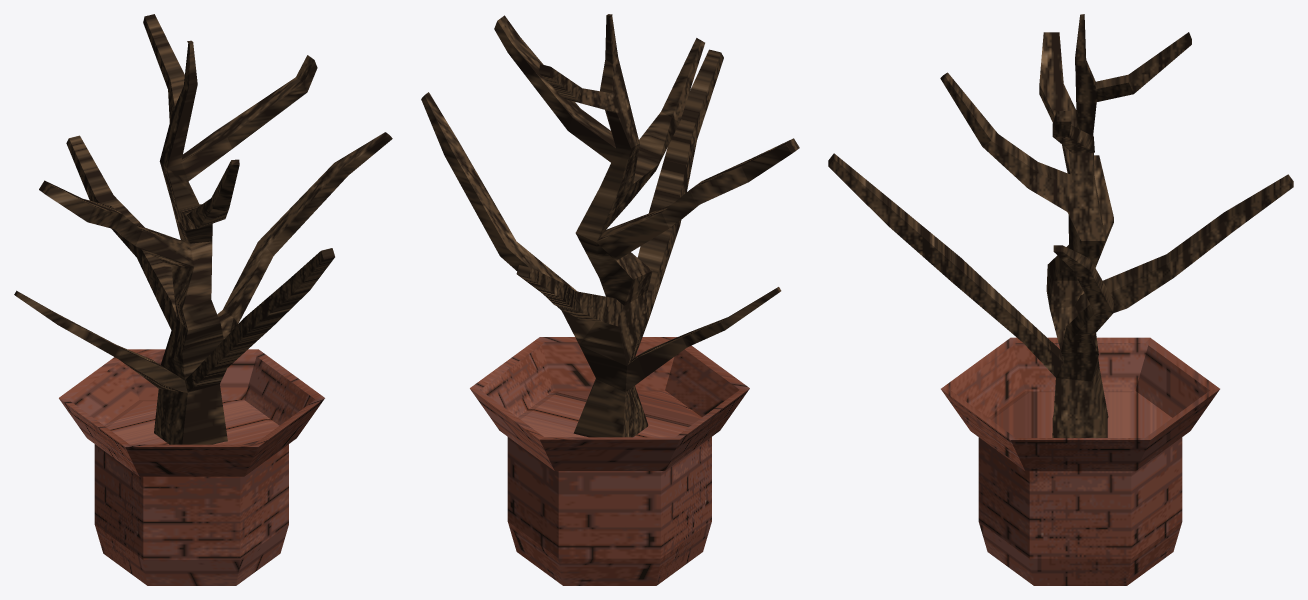
Rendered from Plant.glb.
3 renders of one model, left to right at view 1: azimuth 30°, elevation 25°; view 2: azimuth 150°, elevation 25°; view 3: azimuth 270°, elevation 25°, orthographic. The views are drawn at different scales.
Parts seen in each view (by area): view 1: Cube.001; view 2: Cube.001; view 3: Cube.001.
Part boxes in pixels (x1,y1,x2,y2): Cube.001: (14,14,392,585); Cube.001: (421,14,799,585); Cube.001: (828,14,1293,585).
Size of the model in its own units: 1.21 by 1.66 by 1.3.
Materials: 2 (2 with a texture image).
